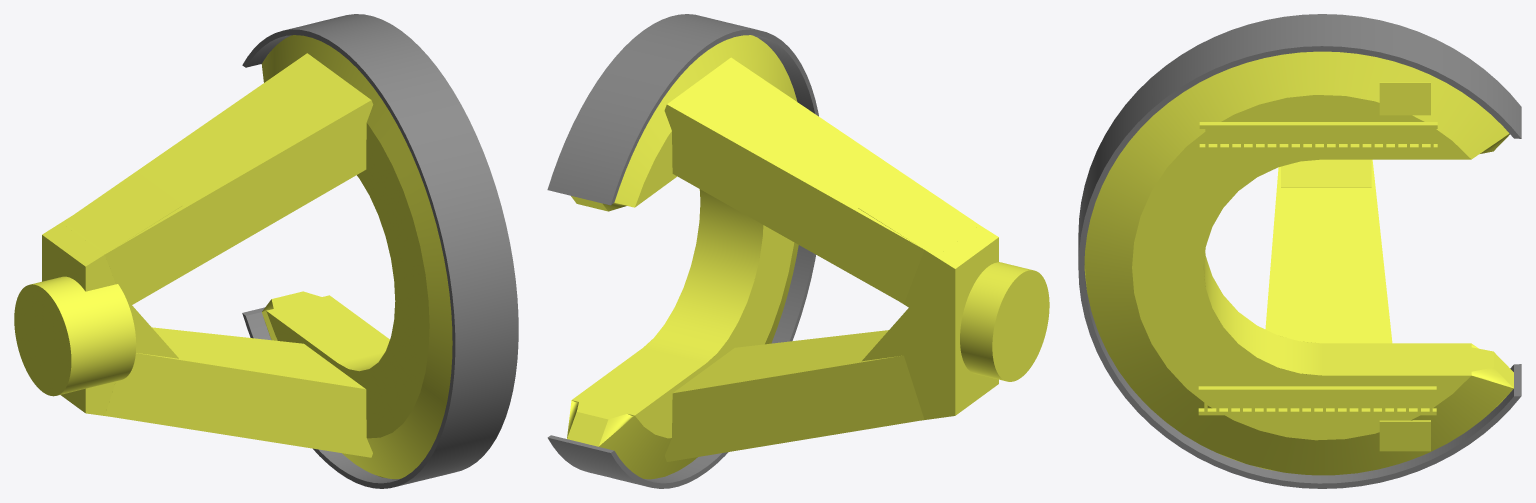
The model's file is fork v18.fbx.
3 renders of one model, left to right at view 1: azimuth 30°, elevation 25°; view 2: azimuth 150°, elevation 25°; view 3: azimuth 270°, elevation 25°, orthographic. The views are drawn at different scales.
Parts seen in each view (by area): view 1: Body1 (×5), Body9, Body10, Body2; view 2: Body1 (×5), Body9, Body10, Body2; view 3: Body1 (×8), Body9, Body12.
Part boxes in pixels (x1=…): Body1 (×5): x1=42, y1=14, x2=518, y2=488; Body9: x1=263, y1=51, x2=429, y2=479; Body10: x1=261, y1=35, x2=452, y2=478; Body2: x1=14, y1=276, x2=136, y2=396; Body1 (×5): x1=547, y1=14, x2=998, y2=488; Body9: x1=567, y1=131, x2=794, y2=446; Body10: x1=598, y1=35, x2=798, y2=479; Body2: x1=960, y1=262, x2=1049, y2=381; Body1 (×8): x1=1078, y1=14, x2=1521, y2=488; Body9: x1=1084, y1=95, x2=1513, y2=470; Body12: x1=1084, y1=51, x2=1513, y2=475.
Size of the model in its own units: 10414 by 11316 by 10264.
